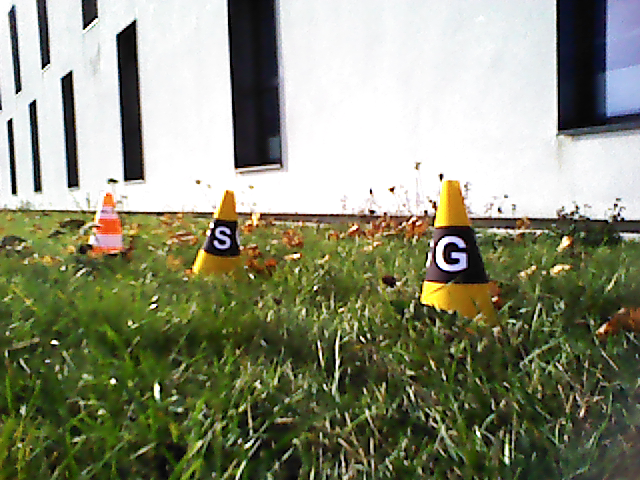orangeconesmall: (86, 192, 125, 253)
yellowcone: (418, 179, 494, 308), (192, 191, 245, 279)
